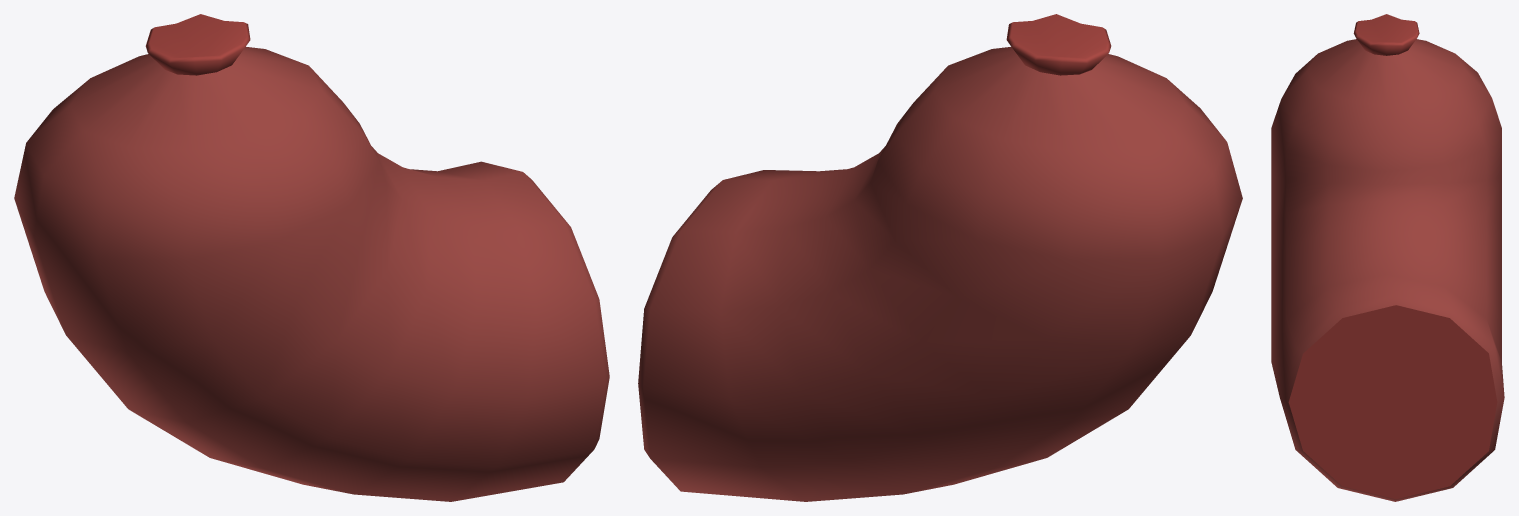
File: Sausage_mini_half.004.fbx
The picture shows the model from 3 angles, left to right: view 1: azimuth 30°, elevation 25°; view 2: azimuth 150°, elevation 25°; view 3: azimuth 270°, elevation 25°; orthographic projection. The views are drawn at different scales.
Parts seen in each view (by area): view 1: Sausage_mini_half.004; view 2: Sausage_mini_half.004; view 3: Sausage_mini_half.004.
Part boxes in pixels (bbox=[...]): Sausage_mini_half.004: bbox=[14, 14, 609, 501]; Sausage_mini_half.004: bbox=[638, 14, 1242, 501]; Sausage_mini_half.004: bbox=[1271, 14, 1504, 501].
Size of the model in its own units: 61.69 by 35.56 by 61.13.
